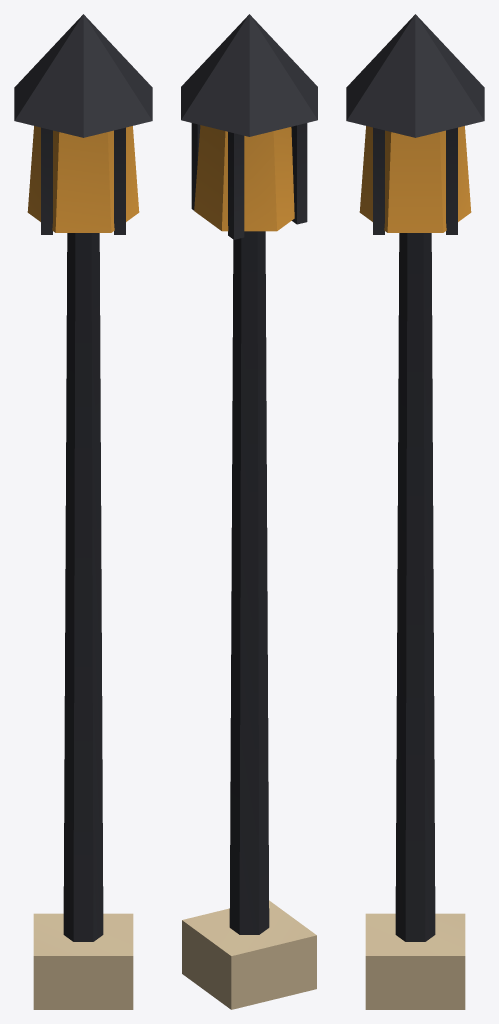
The model's file is city_lantern.glb.
3 views of the same model, side by side, from view 1: azimuth 90°, elevation 25°; view 2: azimuth 210°, elevation 25°; view 3: azimuth 270°, elevation 25° (orthographic).
Visible parts, largest first — view 1: city_lantern; view 2: city_lantern; view 3: city_lantern.
Boxes of the visible parts, left/top/right/bottom form: city_lantern: left=14, top=14, right=152, bottom=1009; city_lantern: left=181, top=14, right=317, bottom=1009; city_lantern: left=346, top=14, right=484, bottom=1009.
Bounding box in the file's own units: 0.08 × 0.54 × 0.0693.
